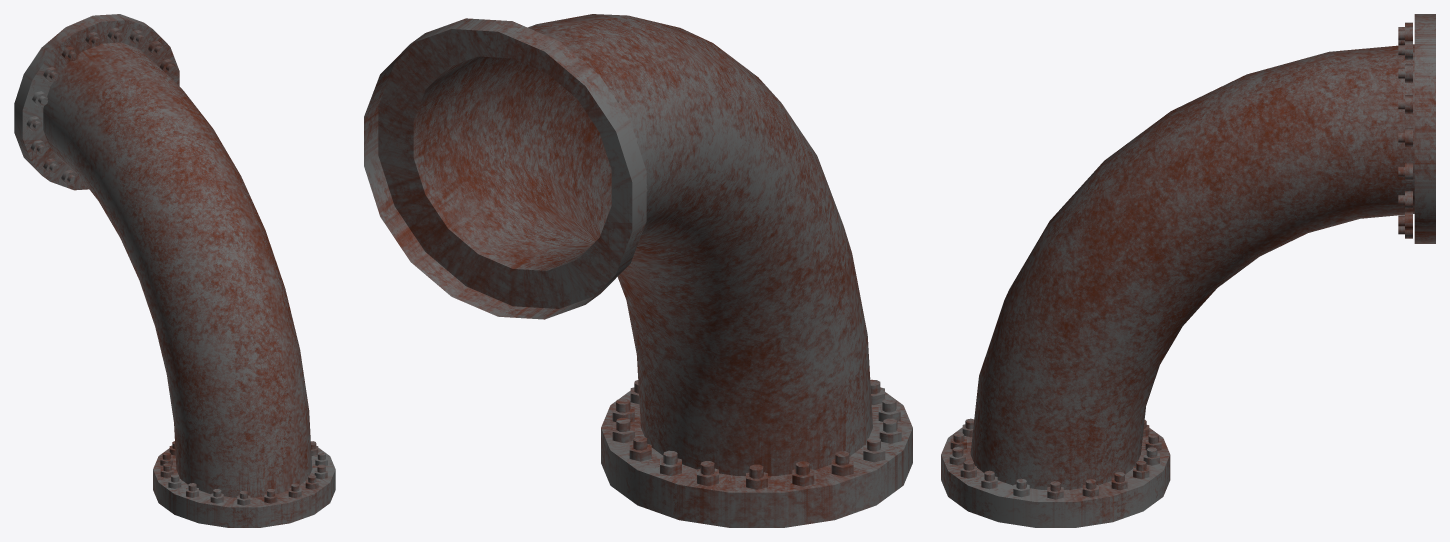
The model's file is pipe_bent.FBX.
3 renders of one model, left to right at view 1: azimuth 30°, elevation 25°; view 2: azimuth 150°, elevation 25°; view 3: azimuth 270°, elevation 25°, orthographic. The views are drawn at different scales.
Visible parts, largest first — view 1: pipe_bent; view 2: pipe_bent; view 3: pipe_bent.
Boxes of the visible parts, left/top/right/bottom form: pipe_bent: left=14, top=14, right=335, bottom=527; pipe_bent: left=364, top=14, right=912, bottom=527; pipe_bent: left=941, top=14, right=1435, bottom=527.
Bounding box in the file's own units: 0.4338 × 0.9592 × 0.9434.
1 material, 1 textured.
